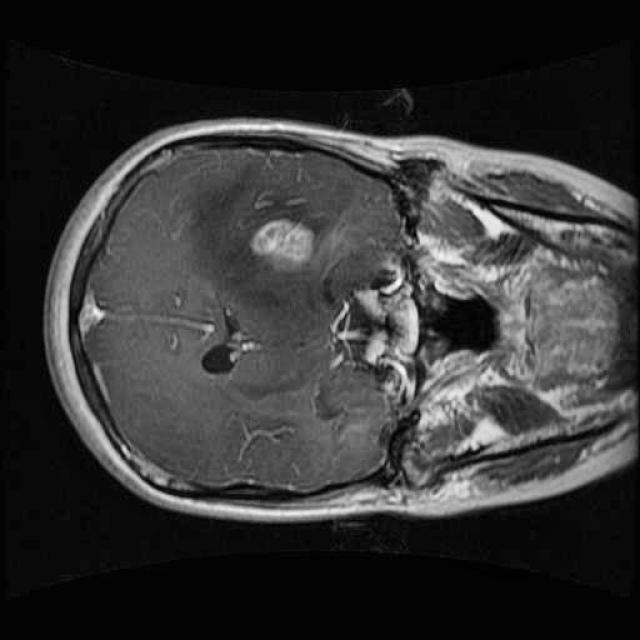Non-Tumor: (239, 200, 329, 284)
